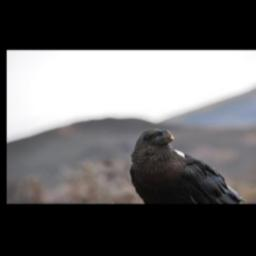Crow: (128, 127, 249, 203)
